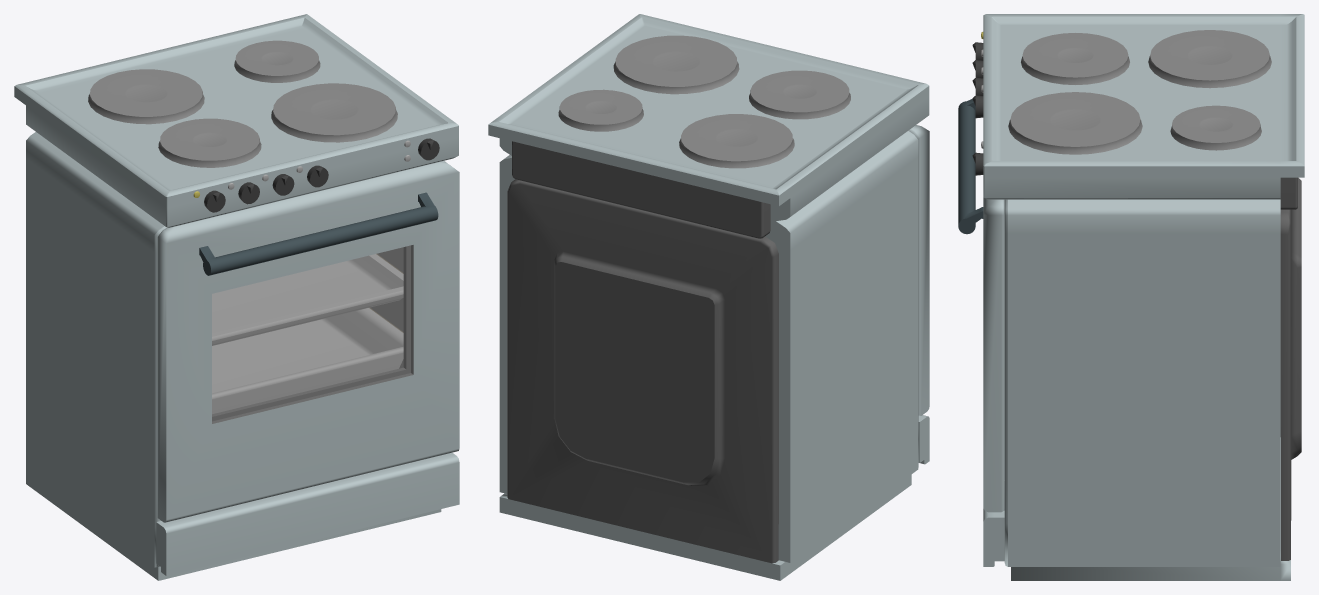
The model's file is Stove.fbx.
3 renders of one model, left to right at view 1: azimuth 30°, elevation 25°; view 2: azimuth 150°, elevation 25°; view 3: azimuth 270°, elevation 25°, orthographic. The views are drawn at different scales.
Parts seen in each view (by area): view 1: BodyMain, DoorMain, BoxMain, OvenTray3, OvenTray2; view 2: BodyMain, DoorMain, BoxMain; view 3: BodyMain, DoorMain, BoxMain.
Part boxes in pixels (left/top/right/bottom): BodyMain: left=14, top=14, right=458, bottom=580; DoorMain: left=157, top=161, right=459, bottom=522; BoxMain: left=156, top=452, right=459, bottom=575; OvenTray3: left=212, top=308, right=403, bottom=413; OvenTray2: left=212, top=254, right=403, bottom=345; BodyMain: left=488, top=14, right=929, bottom=580; DoorMain: left=909, top=125, right=929, bottom=415; BoxMain: left=918, top=415, right=929, bottom=464; BodyMain: left=981, top=14, right=1304, bottom=580; DoorMain: left=958, top=98, right=1004, bottom=512; BoxMain: left=983, top=508, right=1004, bottom=566.
Size of the model in its own units: 67.6 by 89.17 by 65.38.
